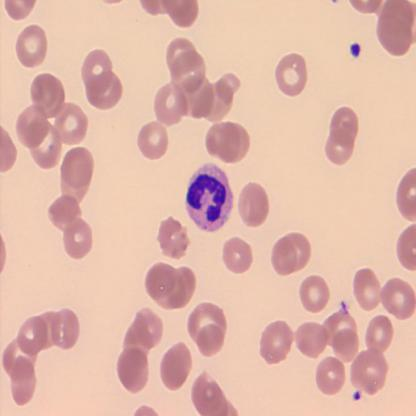Segmented neutrophil: (182, 159, 235, 235)
